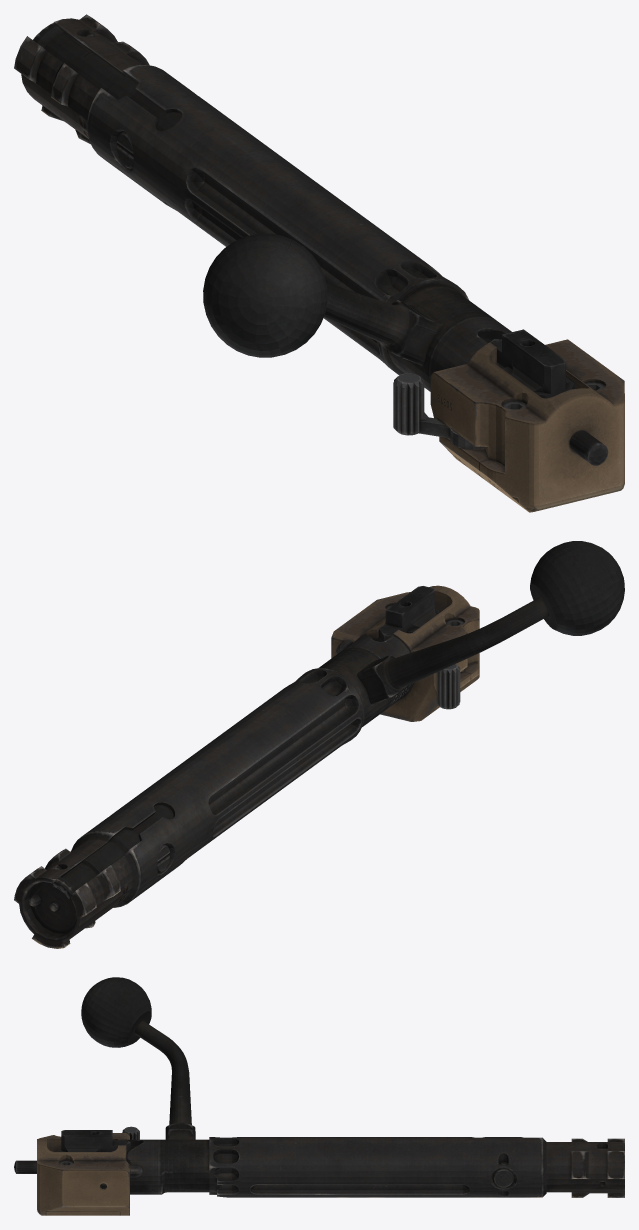
3 renders of one model, top to bottom at view 1: azimuth 30°, elevation 25°; view 2: azimuth 150°, elevation 25°; view 3: azimuth 270°, elevation 25°, orthographic. The views are drawn at different scales.
Parts seen in each view (by area): view 1: TW_62811cd7308cb521f87a8f99_PZ_Import; view 2: TW_62811cd7308cb521f87a8f99_PZ_Import; view 3: TW_62811cd7308cb521f87a8f99_PZ_Import.
Part boxes in pixels (<box>): TW_62811cd7308cb521f87a8f99_PZ_Import: <box>14,14,624,512</box>; TW_62811cd7308cb521f87a8f99_PZ_Import: <box>14,541,624,948</box>; TW_62811cd7308cb521f87a8f99_PZ_Import: <box>14,977,624,1215</box>.
Bounding box in the file's own units: 0.0492 × 0.1258 × 0.0352.
Materials: 1 (1 with a texture image).
